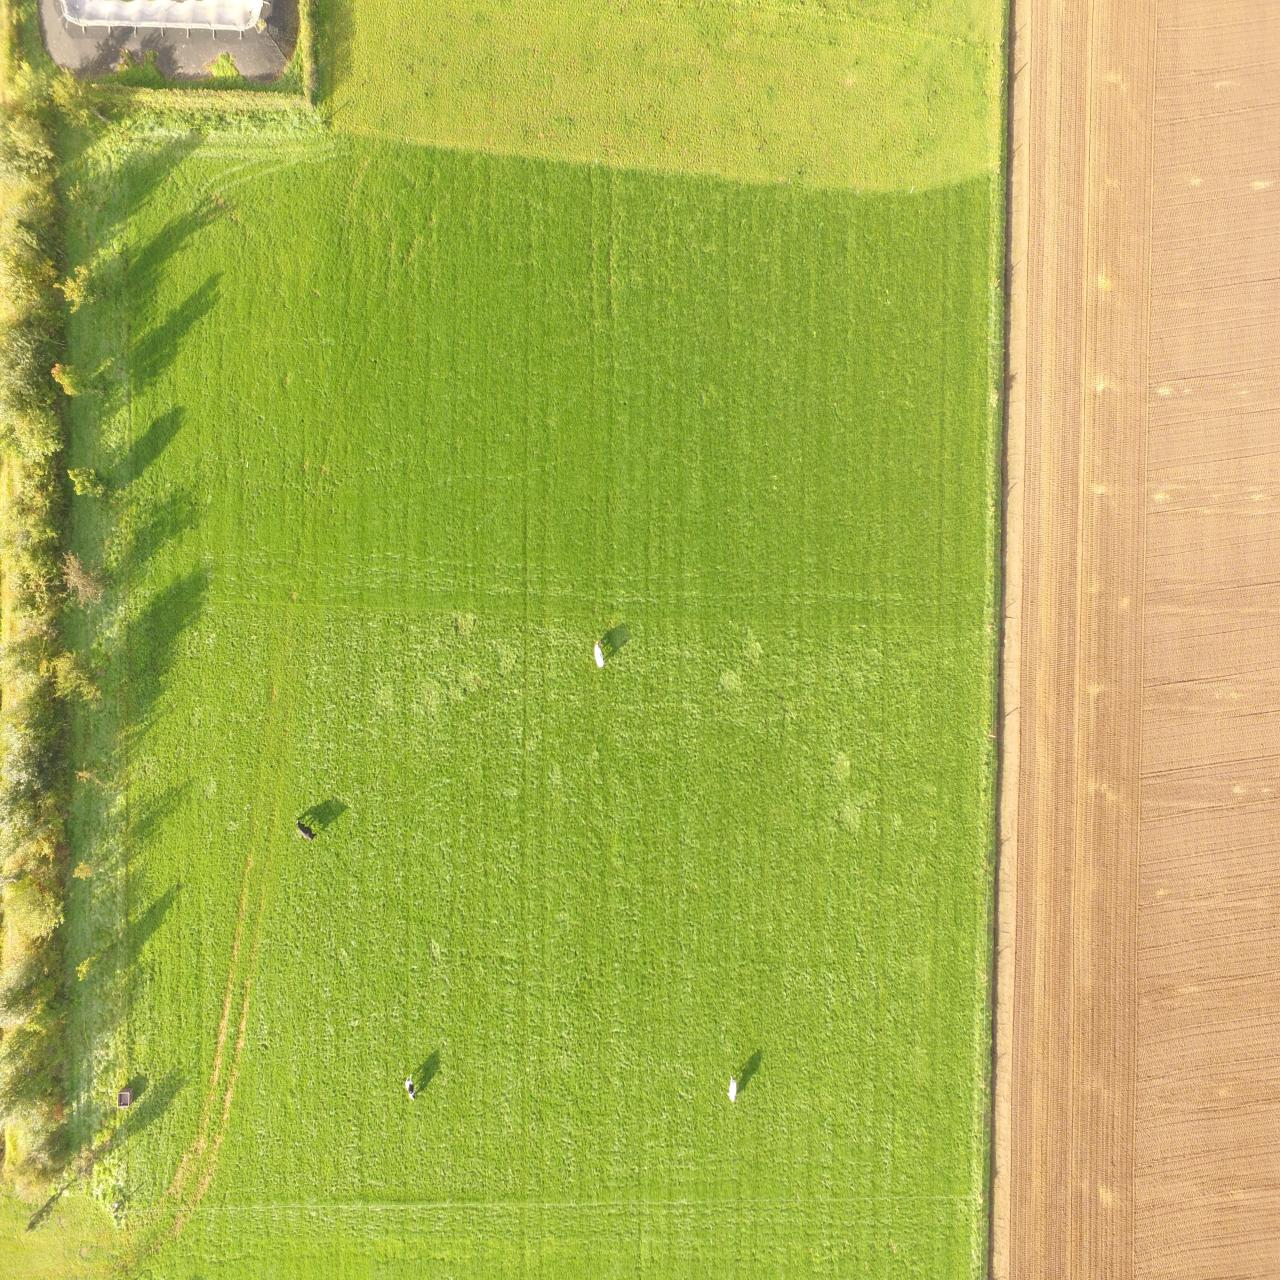cow: (294, 816, 321, 844), (404, 1071, 417, 1102), (593, 638, 606, 668), (726, 1072, 738, 1103)
